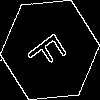F: (25, 25, 75, 76)
